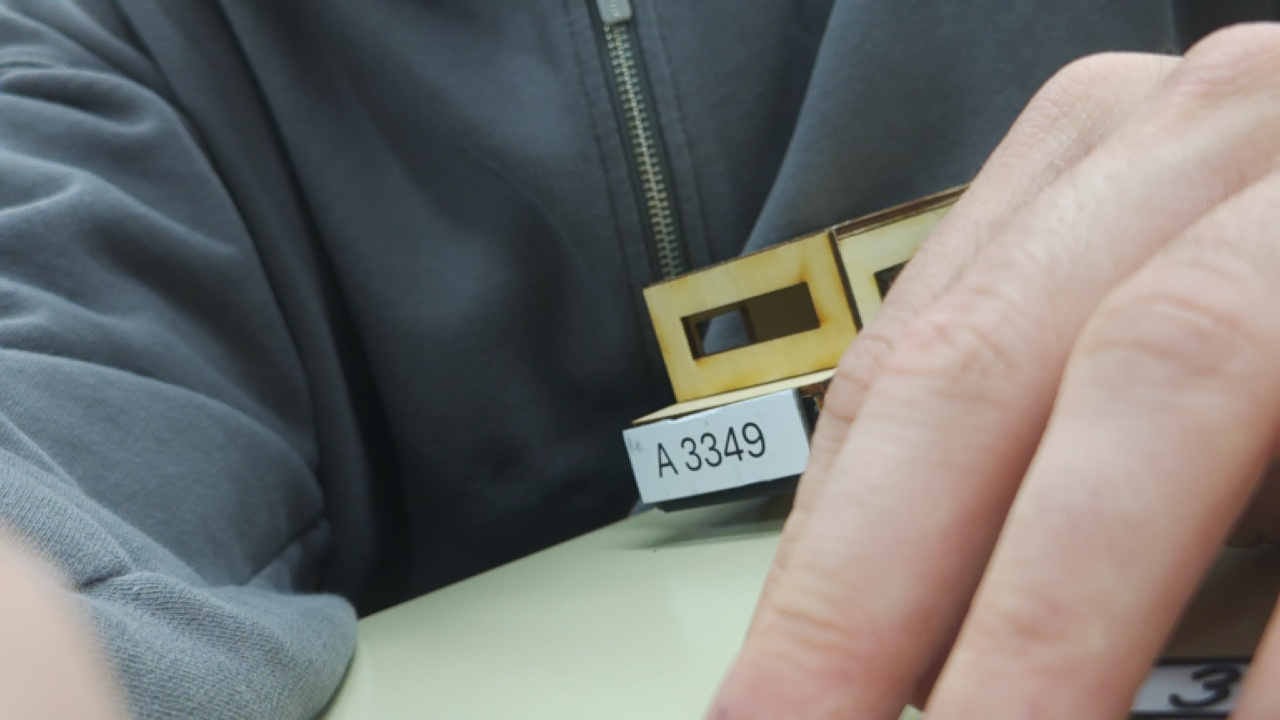license_plate: (620, 383, 820, 508)
